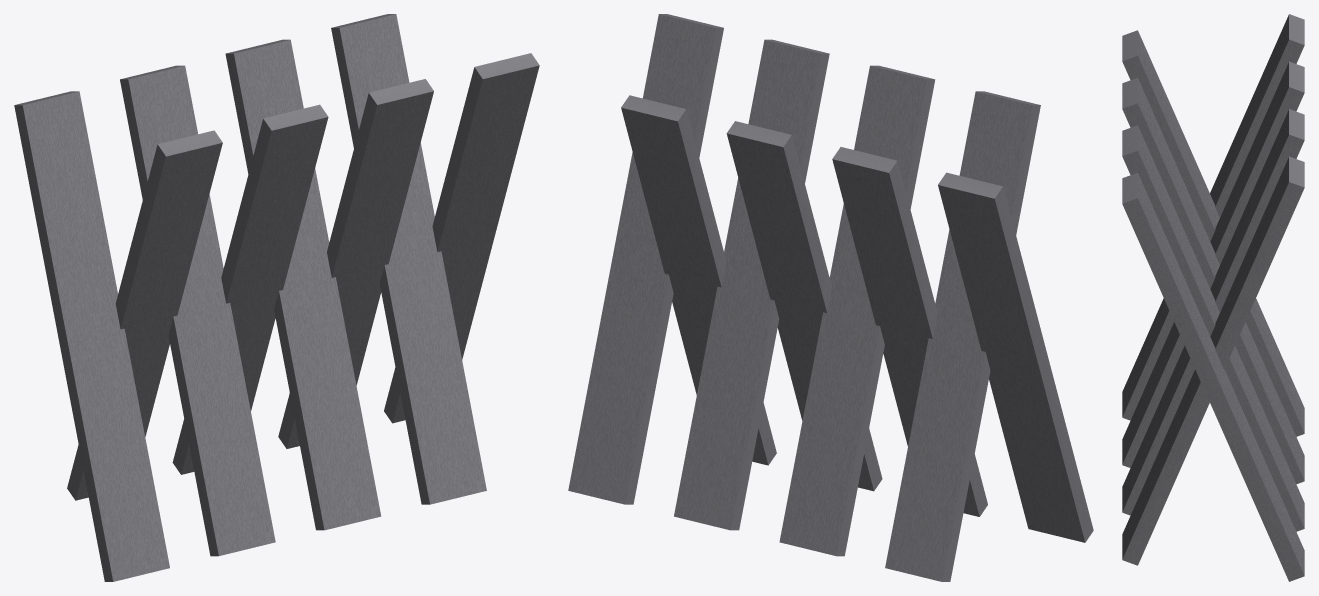
3 views of the same model, side by side, from view 1: azimuth 30°, elevation 25°; view 2: azimuth 150°, elevation 25°; view 3: azimuth 270°, elevation 25° (orthographic). The views are drawn at different scales.
Visible parts, largest first — view 1: roof_sawtooth_production_run001; view 2: roof_sawtooth_production_run001; view 3: roof_sawtooth_production_run001.
Part boxes in pixels (bbox=[...]): roof_sawtooth_production_run001: bbox=[14, 14, 539, 581]; roof_sawtooth_production_run001: bbox=[568, 14, 1093, 581]; roof_sawtooth_production_run001: bbox=[1122, 14, 1304, 581].
Size of the model in its own units: 8.08 by 7.69 by 3.25.
Materials: 1 (1 with a texture image).
